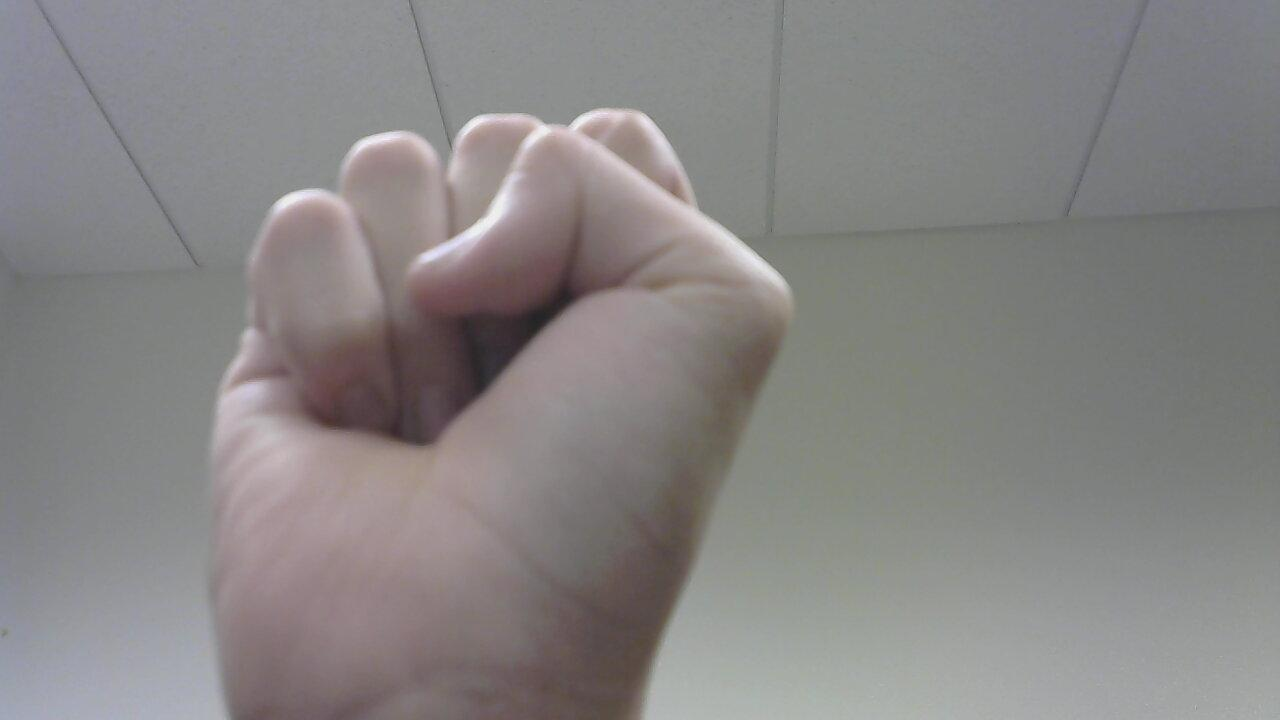fist: (198, 100, 799, 720)
